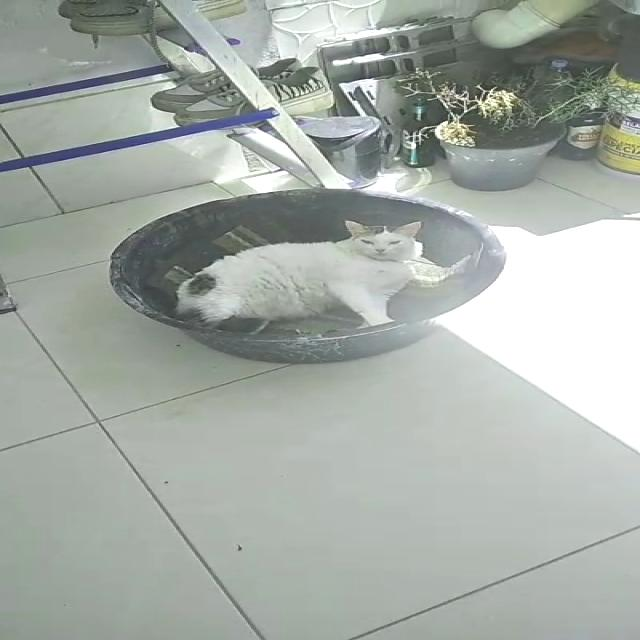Simba: (166, 220, 486, 328)
